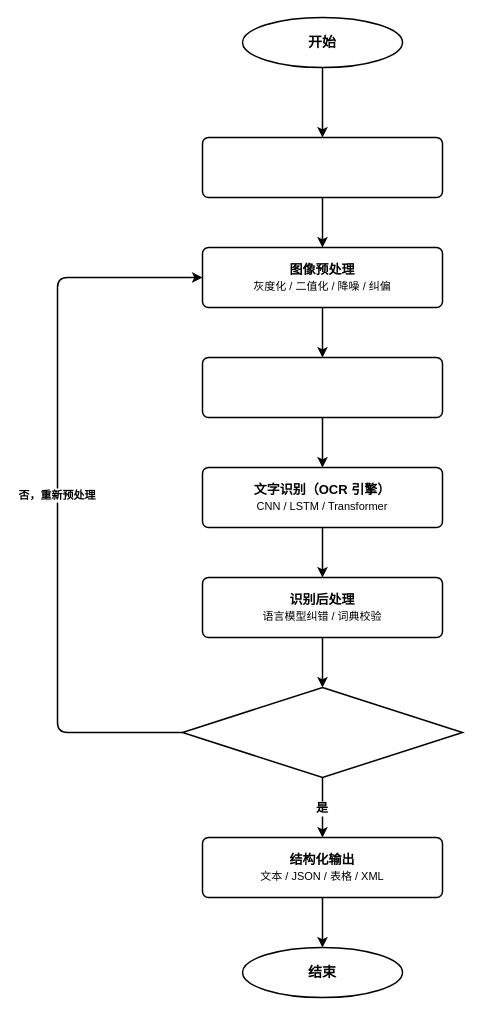
Image size: 480x1016. Some labels were removed from this diagram. Each missing label, with the centre of its shape:
"图像输入 扫描件 / 照片 / PDF / 截图" goes at (322,167).
"版面分析 区域检测 / 文字行分割 / 排序" goes at (322,387).
"置信度达标？ confidence ≥ 阈值" goes at (322,732).
